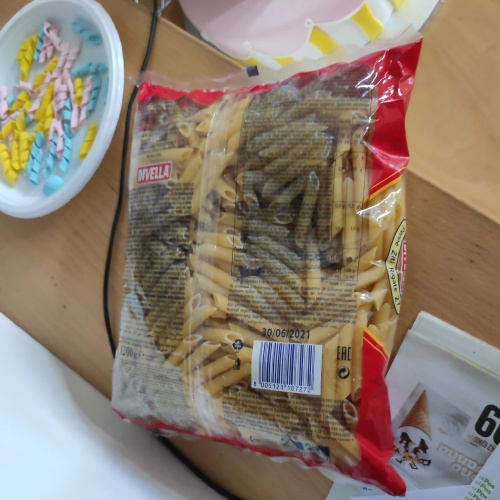pasta: (142, 80, 392, 460)
